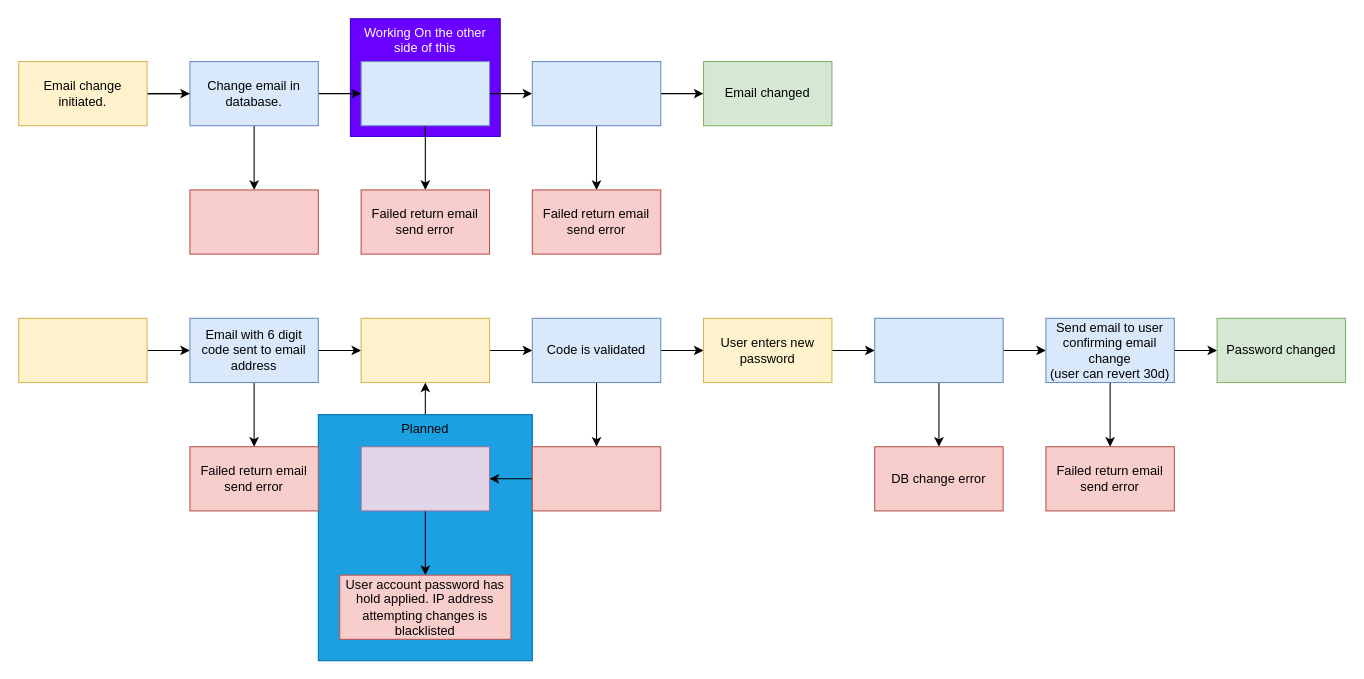
This 1364x679 diagram has some shape labels left out. Here are the shapes that lost their labels. From the top down, the centre of each, then its label:
the point at 425,93: Send verification email to prev email containing override extension (30d)
the point at 596,93: Send email to new email confirming the change.
the point at 253,221: Failed return email change error
the point at 82,350: Password change requested. input (email)
the point at 425,350: User enters code
the point at 938,350: Password is changed in db (hashed)
the point at 425,478: User has not attempted to enter different code more than 8 times
the point at 596,478: Code is invalid code validation error
